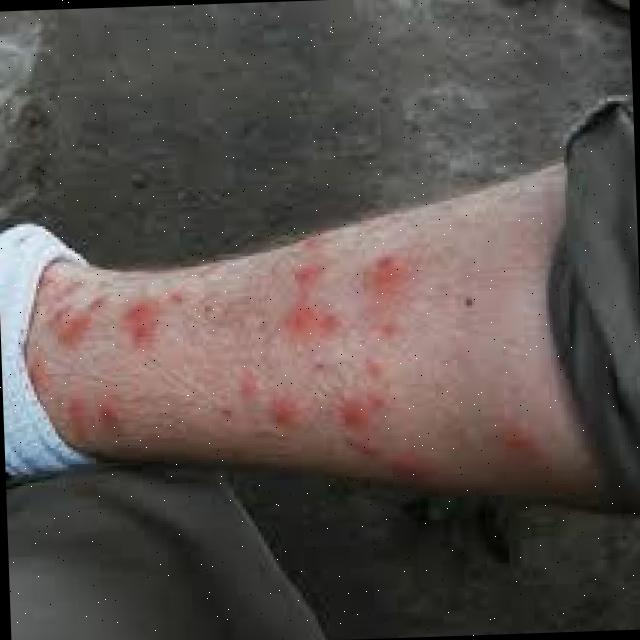kan emici bocekler: (346, 253, 448, 322), (326, 378, 411, 447), (259, 394, 323, 453), (503, 405, 556, 467), (108, 302, 176, 347)
